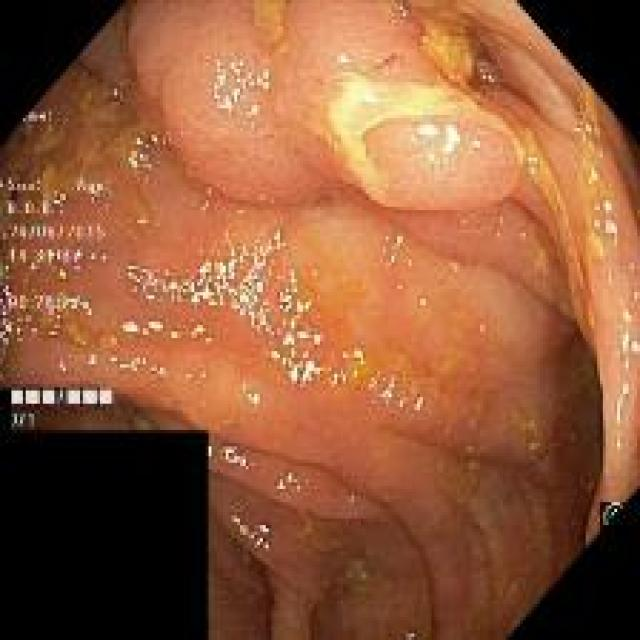Polyps: (130, 3, 569, 307)
